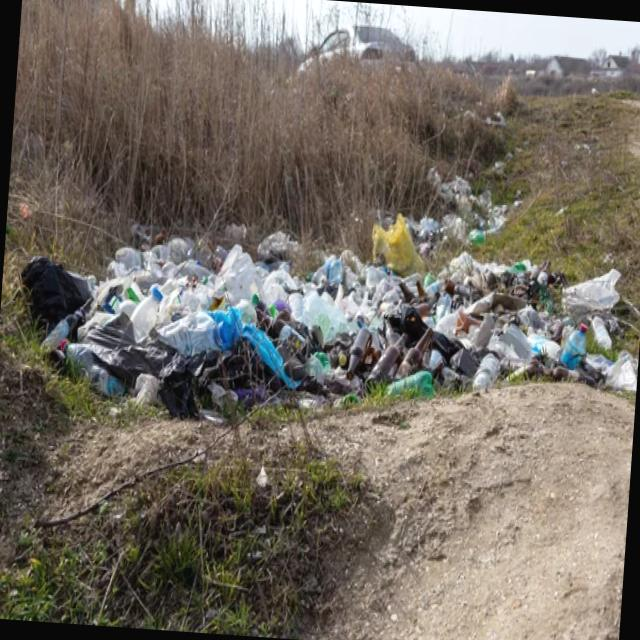garbage: (66, 174, 640, 457)
